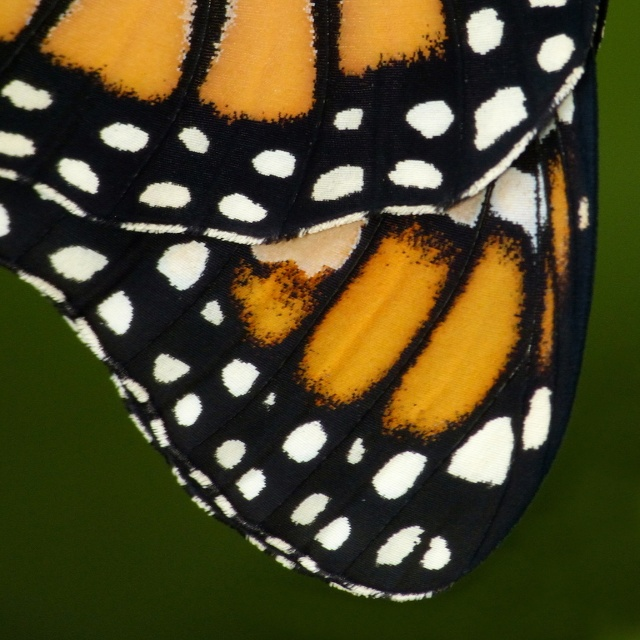Butterfly: (0, 34, 612, 573)
